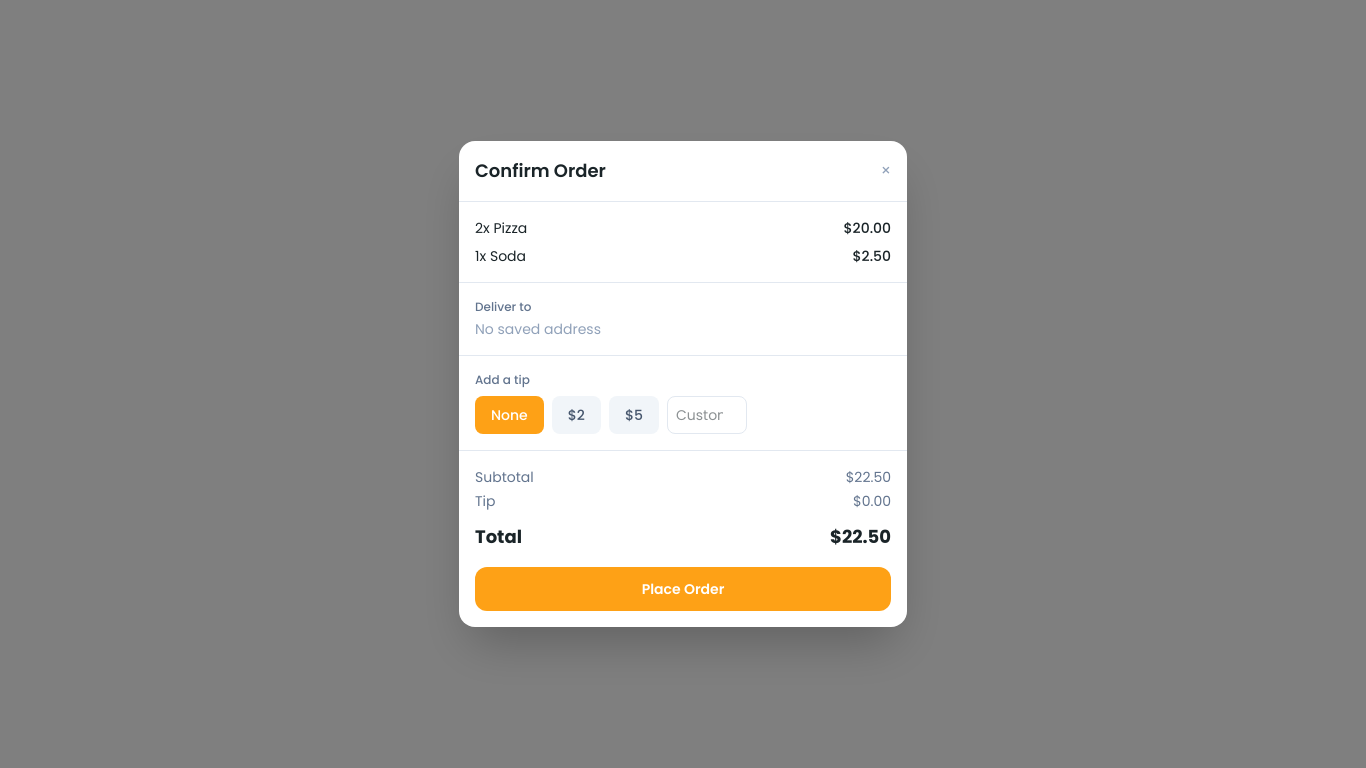
Test: CheckoutModal › clicking a tip preset updates the tip display
Expected: the text "$0.00" is shown, top-left (853, 491), bottom-right (891, 511)
Click the button "$2" at point(576, 415), box top-left (552, 396), bottom-right (601, 434)
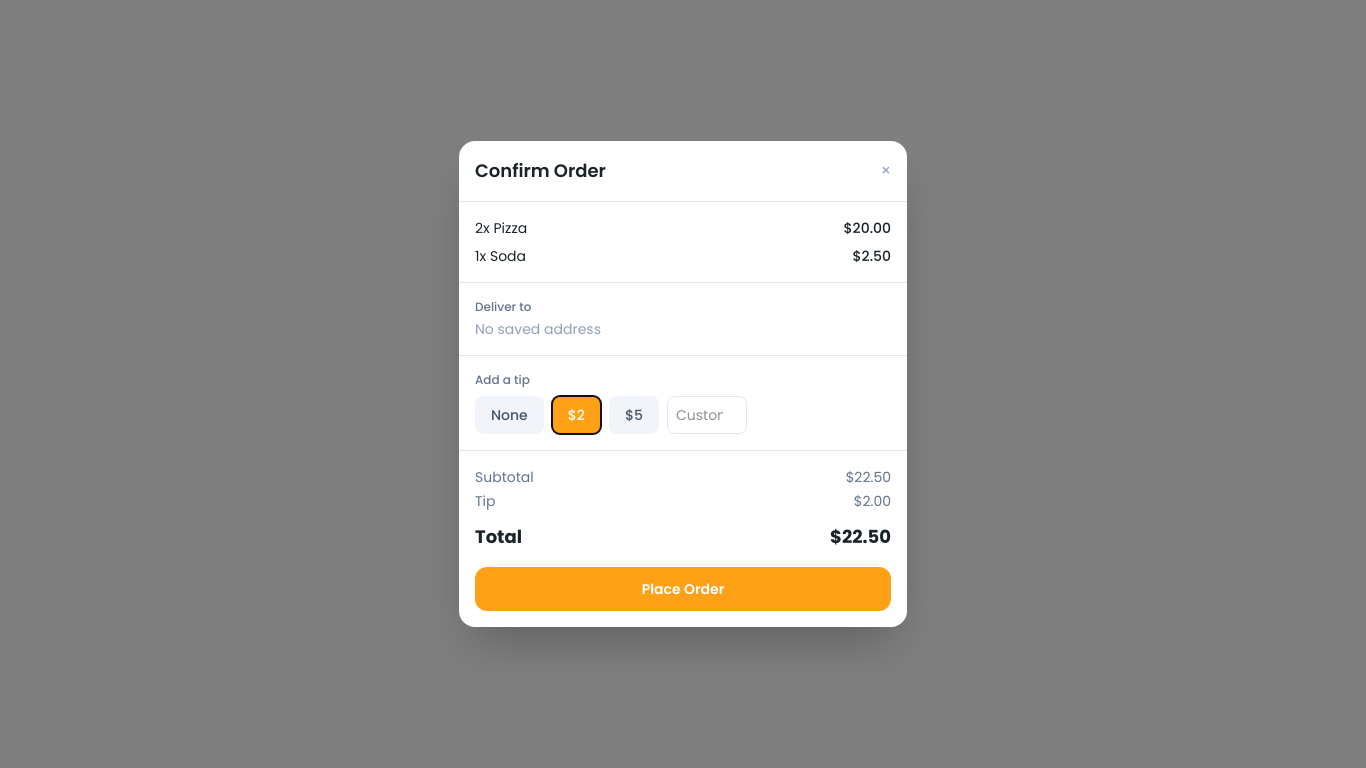
Now the text "$2.00" is shown, box top-left (854, 491), bottom-right (891, 511)
